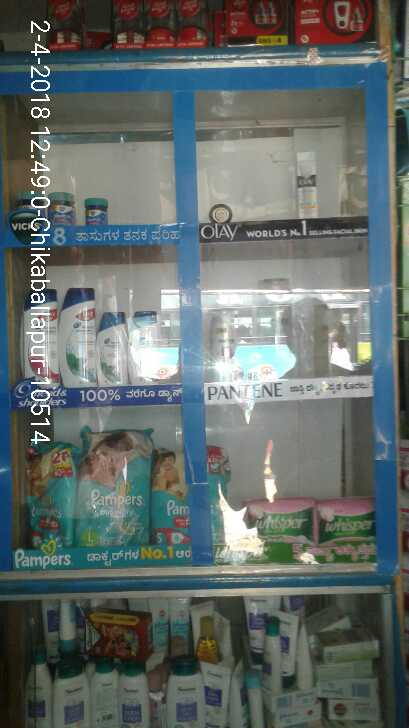vicks: (17, 190, 48, 221), (49, 190, 73, 223), (86, 196, 109, 224)
